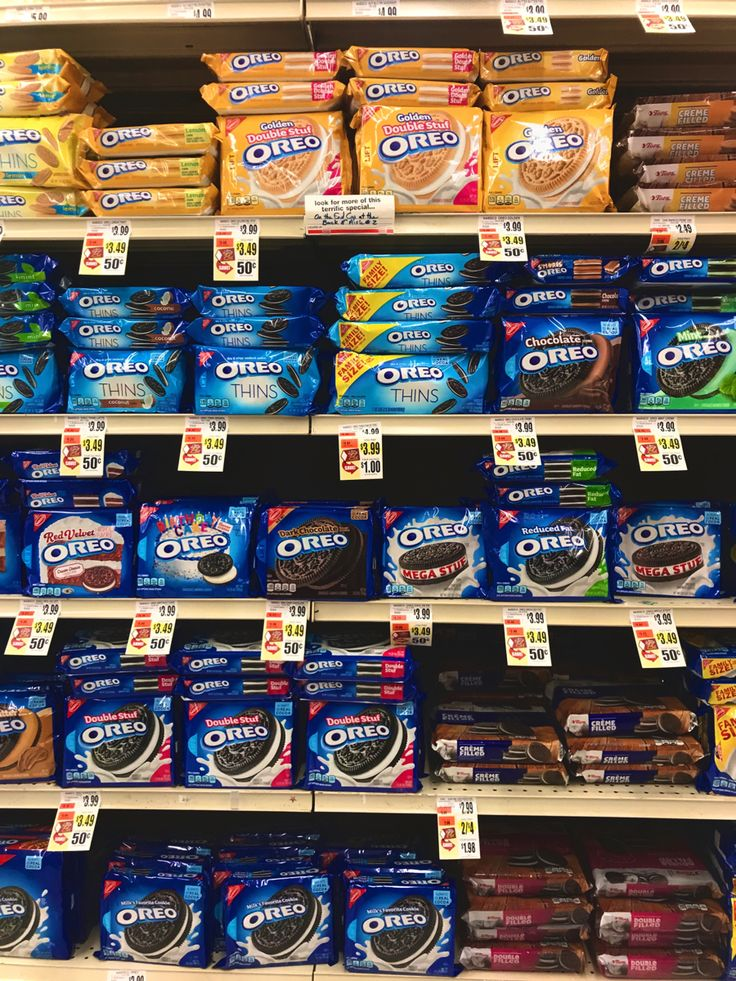Oreo: (372, 488, 492, 608), (141, 491, 261, 611), (191, 311, 311, 431), (230, 102, 350, 222), (180, 685, 300, 805), (335, 859, 455, 979), (87, 851, 207, 971)
